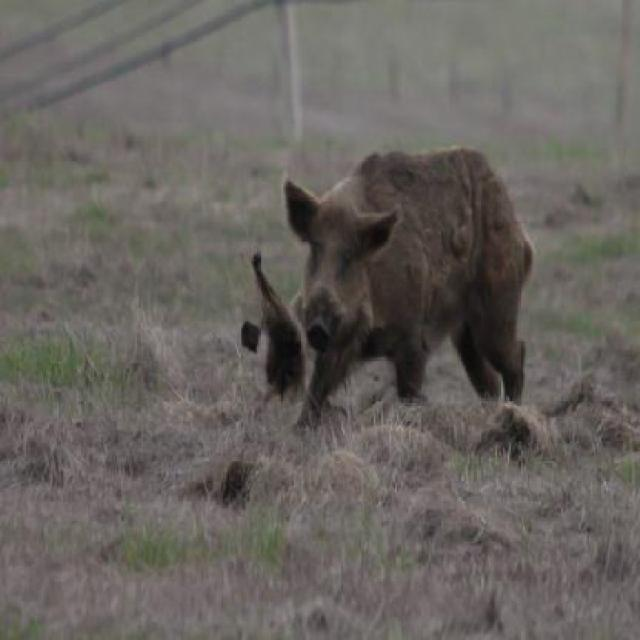Boar: (282, 146, 536, 439)
